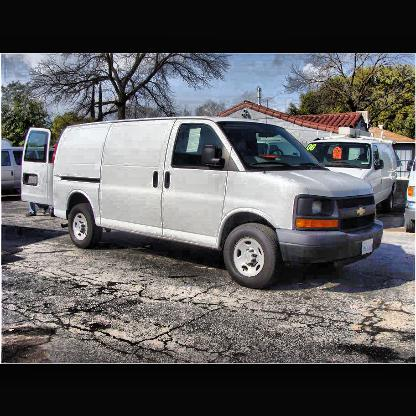Chevrolet Express Cargo Van 2007: (20, 115, 385, 298)
